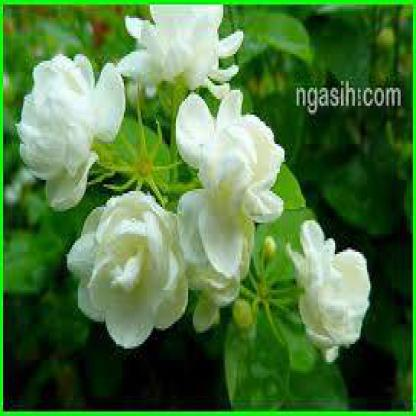Kenanga: (132, 80, 344, 385)
